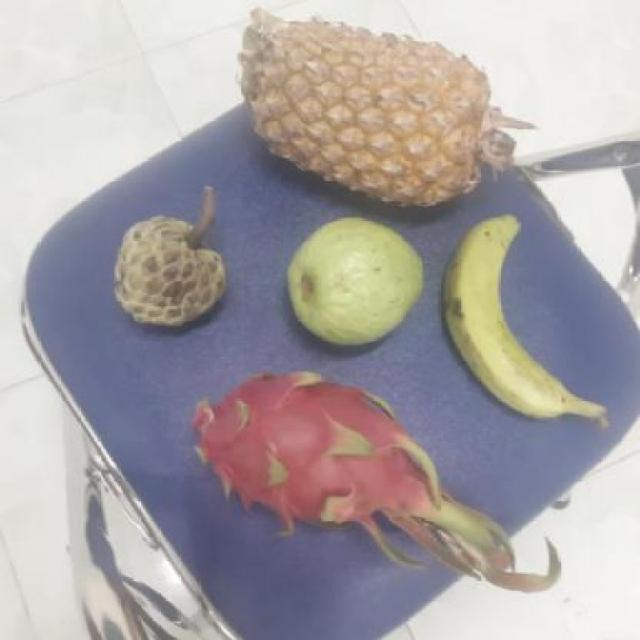banana: (438, 216, 582, 424)
dragon fruit: (180, 371, 434, 535)
guava: (279, 222, 423, 346)
pineapple: (237, 17, 494, 215)
sugar apple: (105, 213, 224, 329)
